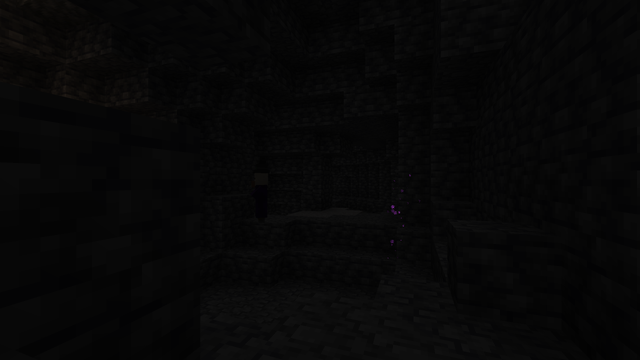sorcieres: (249, 171, 271, 223)
